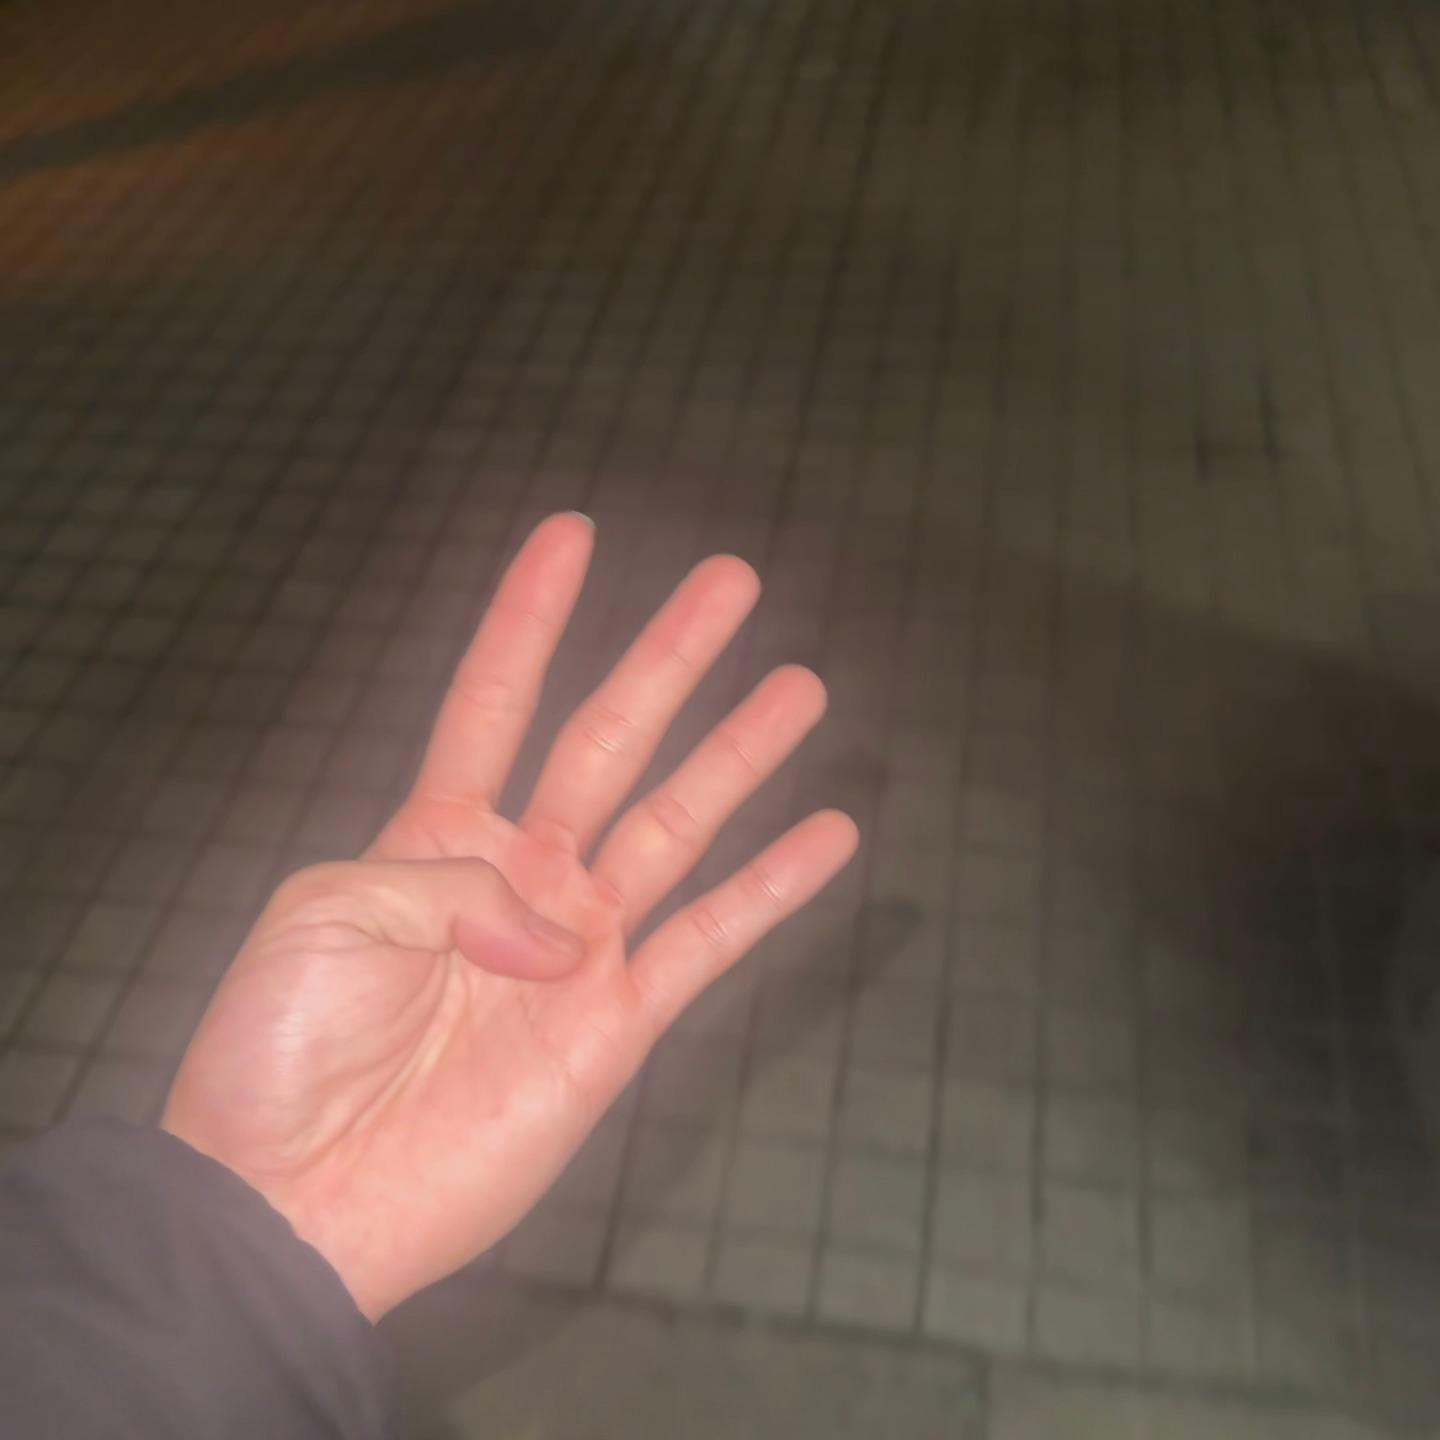without_gloves: (127, 328, 1006, 1385)
